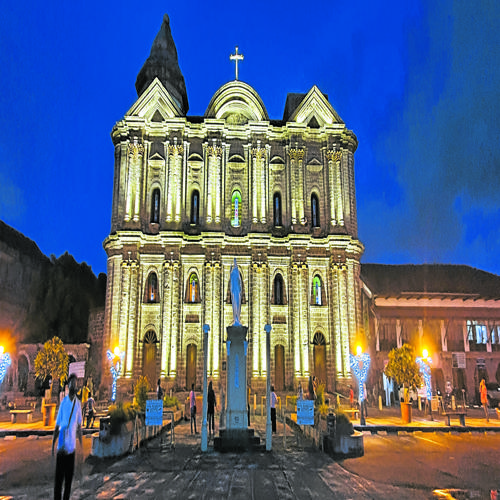Taal Basilica Church: (99, 5, 370, 420)
